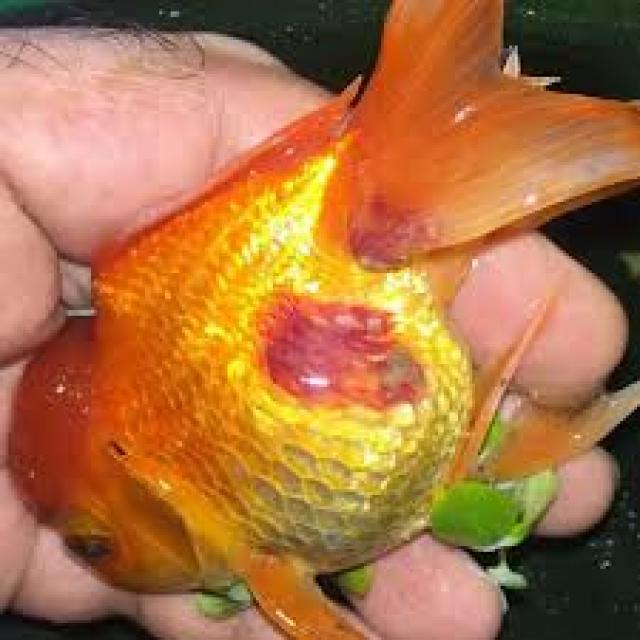EUS Disease: (12, 1, 581, 640), (229, 176, 522, 439)
